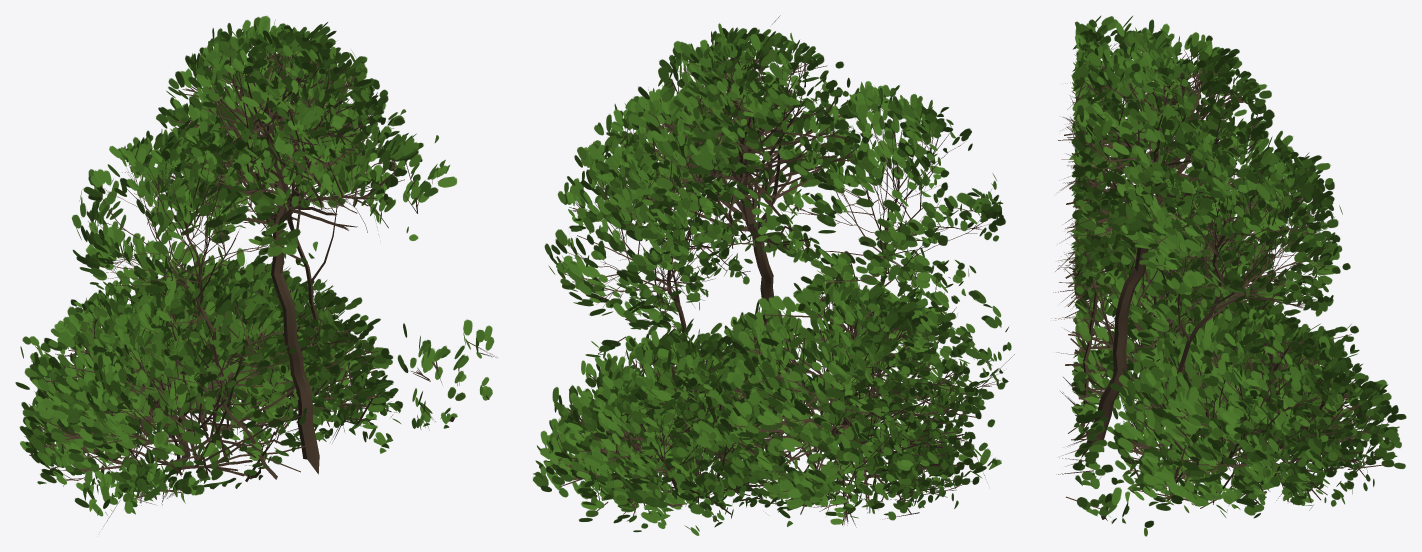
The picture shows the model from 3 angles, left to right: view 1: azimuth 30°, elevation 25°; view 2: azimuth 150°, elevation 25°; view 3: azimuth 270°, elevation 25°; orthographic projection.
Parts seen in each view (by area): view 1: oak 01.001_trunk_Mat.001_0.438; view 2: oak 01.001_trunk_Mat.001_0.438; view 3: oak 01.001_trunk_Mat.001_0.438.
Boxes of the visible parts, x1,y1,x2,y2 form: oak 01.001_trunk_Mat.001_0.438: (15,15,497,526); oak 01.001_trunk_Mat.001_0.438: (533,15,1014,535); oak 01.001_trunk_Mat.001_0.438: (1051,15,1406,536).
Size of the model in its own units: 5.17 by 5.17 by 3.79.
Materials: 2 (1 with a texture image).
